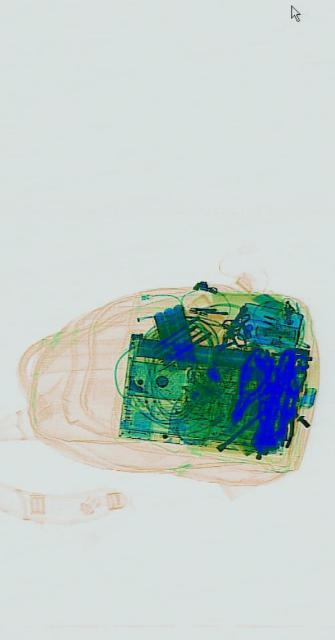Pliers: (222, 338, 274, 436)
